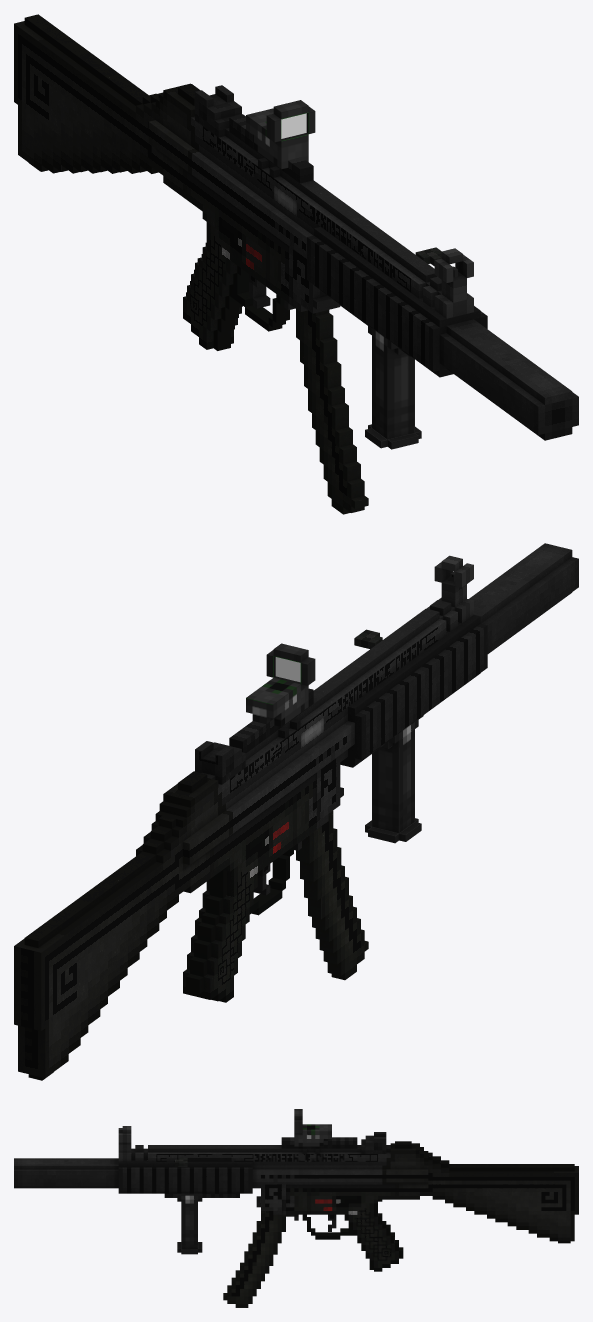
Rendered from MP5SD_FRAME.glb.
3 renders of one model, top to bottom at view 1: azimuth 30°, elevation 25°; view 2: azimuth 150°, elevation 25°; view 3: azimuth 270°, elevation 25°, orthographic. The views are drawn at different scales.
Parts seen in each view (by area): view 1: HK_MP5SD_BODY, HK_MP5SD_CLIP, GRIP_4X4_M1, SCOPE_AIMPOINT; view 2: HK_MP5SD_BODY, HK_MP5SD_CLIP, GRIP_4X4_M1, SCOPE_AIMPOINT; view 3: HK_MP5SD_BODY, HK_MP5SD_CLIP, GRIP_4X4_M1, SCOPE_AIMPOINT.
Boxes of the visible parts, x1,y1,x2,y2 form: HK_MP5SD_BODY: [14, 14, 578, 440]; HK_MP5SD_CLIP: [292, 306, 368, 514]; GRIP_4X4_M1: [365, 325, 421, 449]; SCOPE_AIMPOINT: [246, 100, 315, 169]; HK_MP5SD_BODY: [14, 543, 578, 1080]; HK_MP5SD_CLIP: [296, 811, 368, 980]; GRIP_4X4_M1: [365, 719, 421, 843]; SCOPE_AIMPOINT: [246, 643, 315, 726]; HK_MP5SD_BODY: [14, 1126, 578, 1271]; HK_MP5SD_CLIP: [223, 1211, 290, 1307]; GRIP_4X4_M1: [177, 1193, 202, 1254]; SCOPE_AIMPOINT: [294, 1109, 331, 1146].
Bounding box in the file's own units: 0.0985 × 0.502 × 1.33.
4 materials, 3 textured.
